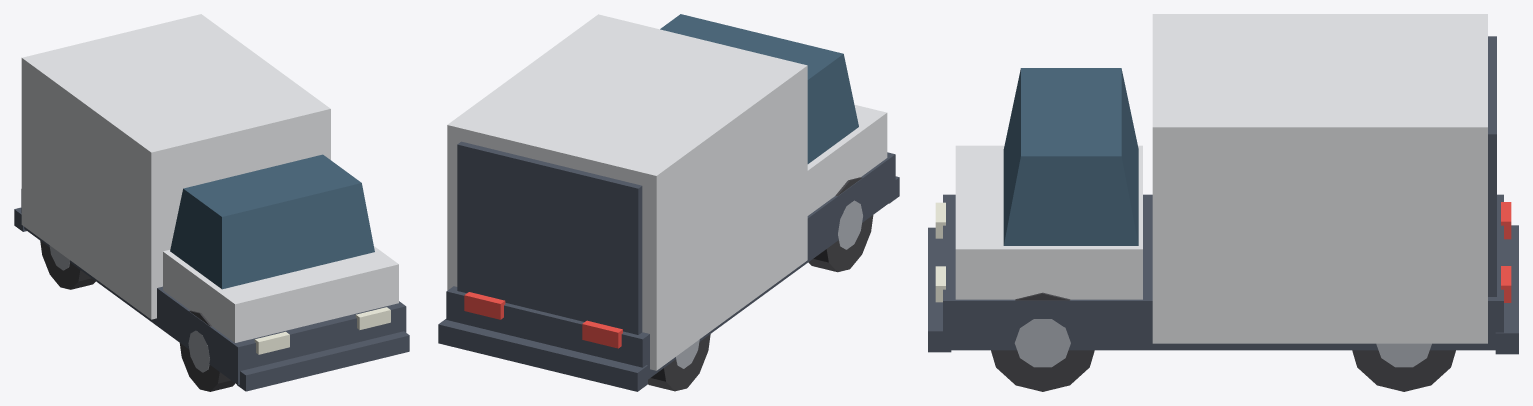
Rendered from traffic_box_truck.glb.
3 renders of one model, left to right at view 1: azimuth 30°, elevation 25°; view 2: azimuth 150°, elevation 25°; view 3: azimuth 270°, elevation 25°, orthographic. The views are drawn at different scales.
Parts seen in each view (by area): view 1: cargo_box, cab_upper, cab_lower, chassis, front_bumper, wheel_L_front_tire, wheel_L_rear_tire, wheel_L_front_rim, headlight_-0.58, headlight_+0.58; view 2: cargo_box, rear_door, chassis, cab_upper, rear_bumper, cab_lower, wheel_L_front_tire, wheel_L_rear_tire, wheel_L_front_rim, taillight_+0.58, taillight_-0.58; view 3: cargo_box, cab_upper, cab_lower, chassis, wheel_R_front_tire, wheel_R_rear_tire, rear_door, wheel_R_front_rim, rear_bumper, front_bumper, wheel_R_rear_rim.
Boxes of the visible parts, left/top/right/bottom form: cargo_box: left=21, top=14, right=330, bottom=319; cab_upper: left=170, top=154, right=374, bottom=289; cab_lower: left=163, top=246, right=398, bottom=342; chassis: left=21, top=189, right=406, bottom=384; front_bumper: left=237, top=331, right=409, bottom=391; wheel_L_front_tire: left=179, top=310, right=234, bottom=391; wheel_L_rear_tire: left=40, top=241, right=95, bottom=289; wheel_L_front_rim: left=188, top=330, right=209, bottom=372; headlight_-0.58: left=254, top=331, right=289, bottom=354; headlight_+0.58: left=355, top=307, right=390, bottom=329; cargo_box: left=447, top=14, right=807, bottom=370; rear_door: left=457, top=141, right=642, bottom=334; chassis: left=446, top=152, right=895, bottom=379; cab_upper: left=660, top=14, right=858, bottom=163; rear_bumper: left=438, top=319, right=647, bottom=391; cab_lower: left=807, top=104, right=887, bottom=215; wheel_L_front_tire: left=808, top=177, right=873, bottom=272; wheel_L_rear_tire: left=648, top=334, right=710, bottom=391; wheel_L_front_rim: left=838, top=200, right=862, bottom=249; taillight_+0.58: left=464, top=292, right=505, bottom=319; taillight_-0.58: left=582, top=320, right=622, bottom=348; cargo_box: left=1152, top=14, right=1487, bottom=343; cab_upper: left=1003, top=68, right=1138, bottom=245; cab_lower: left=955, top=145, right=1142, bottom=299; chassis: left=943, top=194, right=1503, bottom=350; wheel_R_front_tire: left=991, top=292, right=1094, bottom=391; wheel_R_rear_tire: left=1352, top=350, right=1455, bottom=391; rear_door: left=1488, top=36, right=1496, bottom=296; wheel_R_front_rim: left=1014, top=319, right=1070, bottom=367; rear_bumper: left=1495, top=225, right=1518, bottom=354; front_bumper: left=928, top=227, right=951, bottom=352; wheel_R_rear_rim: left=1376, top=343, right=1431, bottom=367.
Bounding box in the file's own units: 2.08 × 2.3 × 4.58.
